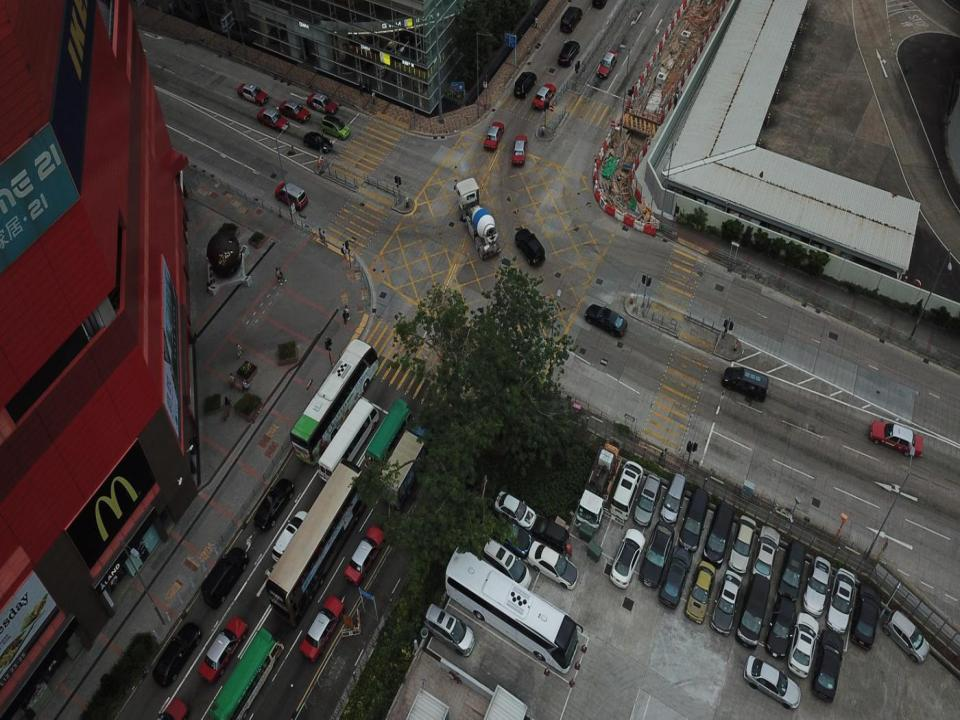bus: (264, 456, 374, 629), (444, 546, 584, 672), (289, 339, 379, 466), (207, 625, 284, 718), (317, 398, 381, 486), (364, 397, 412, 480)
car: (200, 614, 247, 683), (744, 652, 802, 707), (152, 621, 200, 687), (199, 546, 250, 608), (300, 596, 344, 664), (884, 607, 931, 669), (526, 538, 580, 590), (737, 570, 771, 650), (639, 519, 676, 589), (811, 627, 846, 701), (344, 524, 384, 586), (252, 476, 295, 533), (710, 567, 744, 638), (849, 580, 882, 652), (609, 528, 647, 589), (869, 417, 924, 459), (684, 557, 716, 625), (788, 610, 820, 678), (660, 545, 693, 610), (766, 590, 796, 658), (271, 510, 310, 562), (825, 567, 856, 632), (704, 497, 733, 566), (678, 487, 710, 548), (721, 364, 771, 402), (803, 554, 832, 618), (777, 536, 805, 602), (610, 459, 640, 520), (730, 512, 757, 574), (753, 523, 780, 581), (492, 516, 530, 556), (585, 303, 628, 338), (534, 514, 571, 554), (662, 471, 688, 526), (634, 474, 661, 524), (515, 226, 547, 268), (274, 181, 308, 210), (321, 110, 350, 140), (278, 98, 310, 122), (236, 81, 269, 104), (513, 70, 538, 100), (306, 90, 337, 114), (256, 107, 288, 130), (303, 130, 333, 154), (532, 82, 556, 112), (559, 5, 583, 34), (483, 120, 504, 152), (597, 49, 617, 80), (558, 39, 580, 67), (511, 134, 528, 166)
truck: (381, 417, 439, 510), (576, 438, 623, 531), (453, 178, 502, 262)
van: (424, 601, 477, 659), (484, 533, 533, 592), (492, 490, 535, 528)
